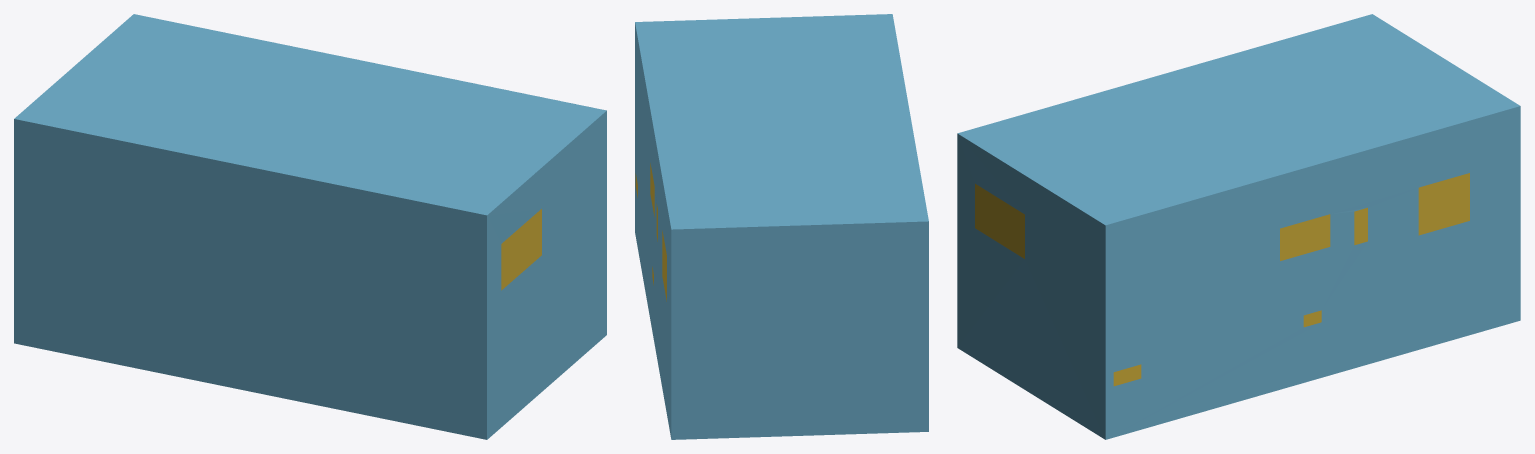
Rendered from bldg_a6d7f1a0-6dfb-4d58-b85d-490866a50b33.obj.
The picture shows the model from 3 angles, left to right: view 1: azimuth 30°, elevation 25°; view 2: azimuth 150°, elevation 25°; view 3: azimuth 270°, elevation 25°; orthographic projection. The views are drawn at different scales.
Size of the model in its own units: 13.92 by 6.59 by 15.68.
